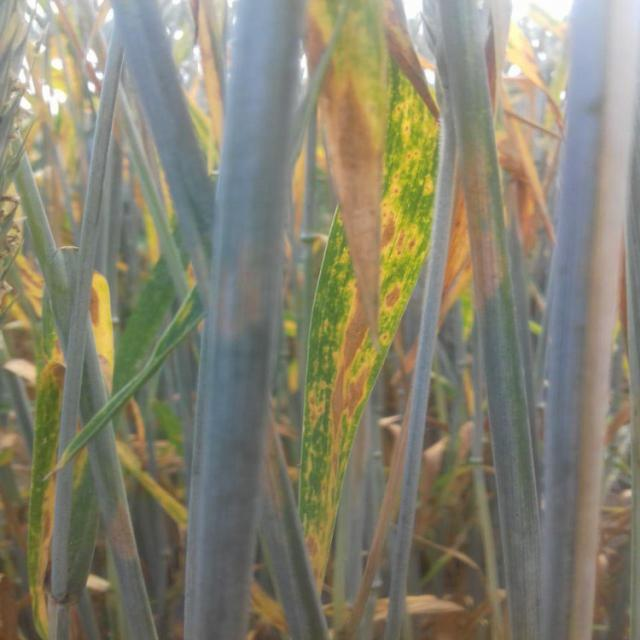wheat-septoria: (287, 0, 439, 616)
